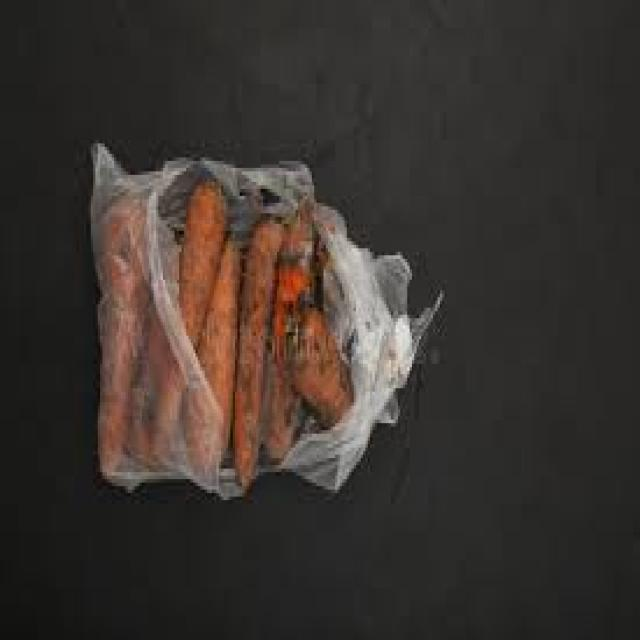Stale_Carrot: (261, 216, 348, 458), (234, 225, 292, 472), (171, 181, 220, 325), (201, 232, 234, 426)
